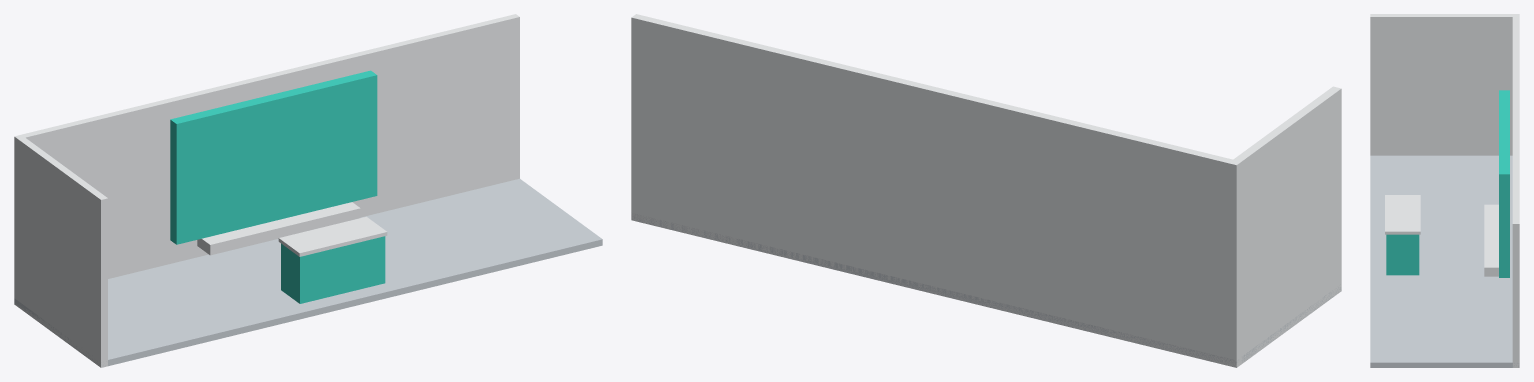
3 views of the same model, side by side, from view 1: azimuth 30°, elevation 25°; view 2: azimuth 150°, elevation 25°; view 3: azimuth 270°, elevation 25° (orthographic). The views are drawn at different scales.
Visible parts, largest first — view 1: Exhibition Booth Concept; view 2: Exhibition Booth Concept; view 3: Exhibition Booth Concept.
Boxes of the visible parts, x1,y1,x2,y2 form: Exhibition Booth Concept: [14, 14, 602, 367]; Exhibition Booth Concept: [631, 14, 1341, 367]; Exhibition Booth Concept: [1370, 14, 1519, 367].
Size of the model in its own units: 10 by 3.2 by 3.
